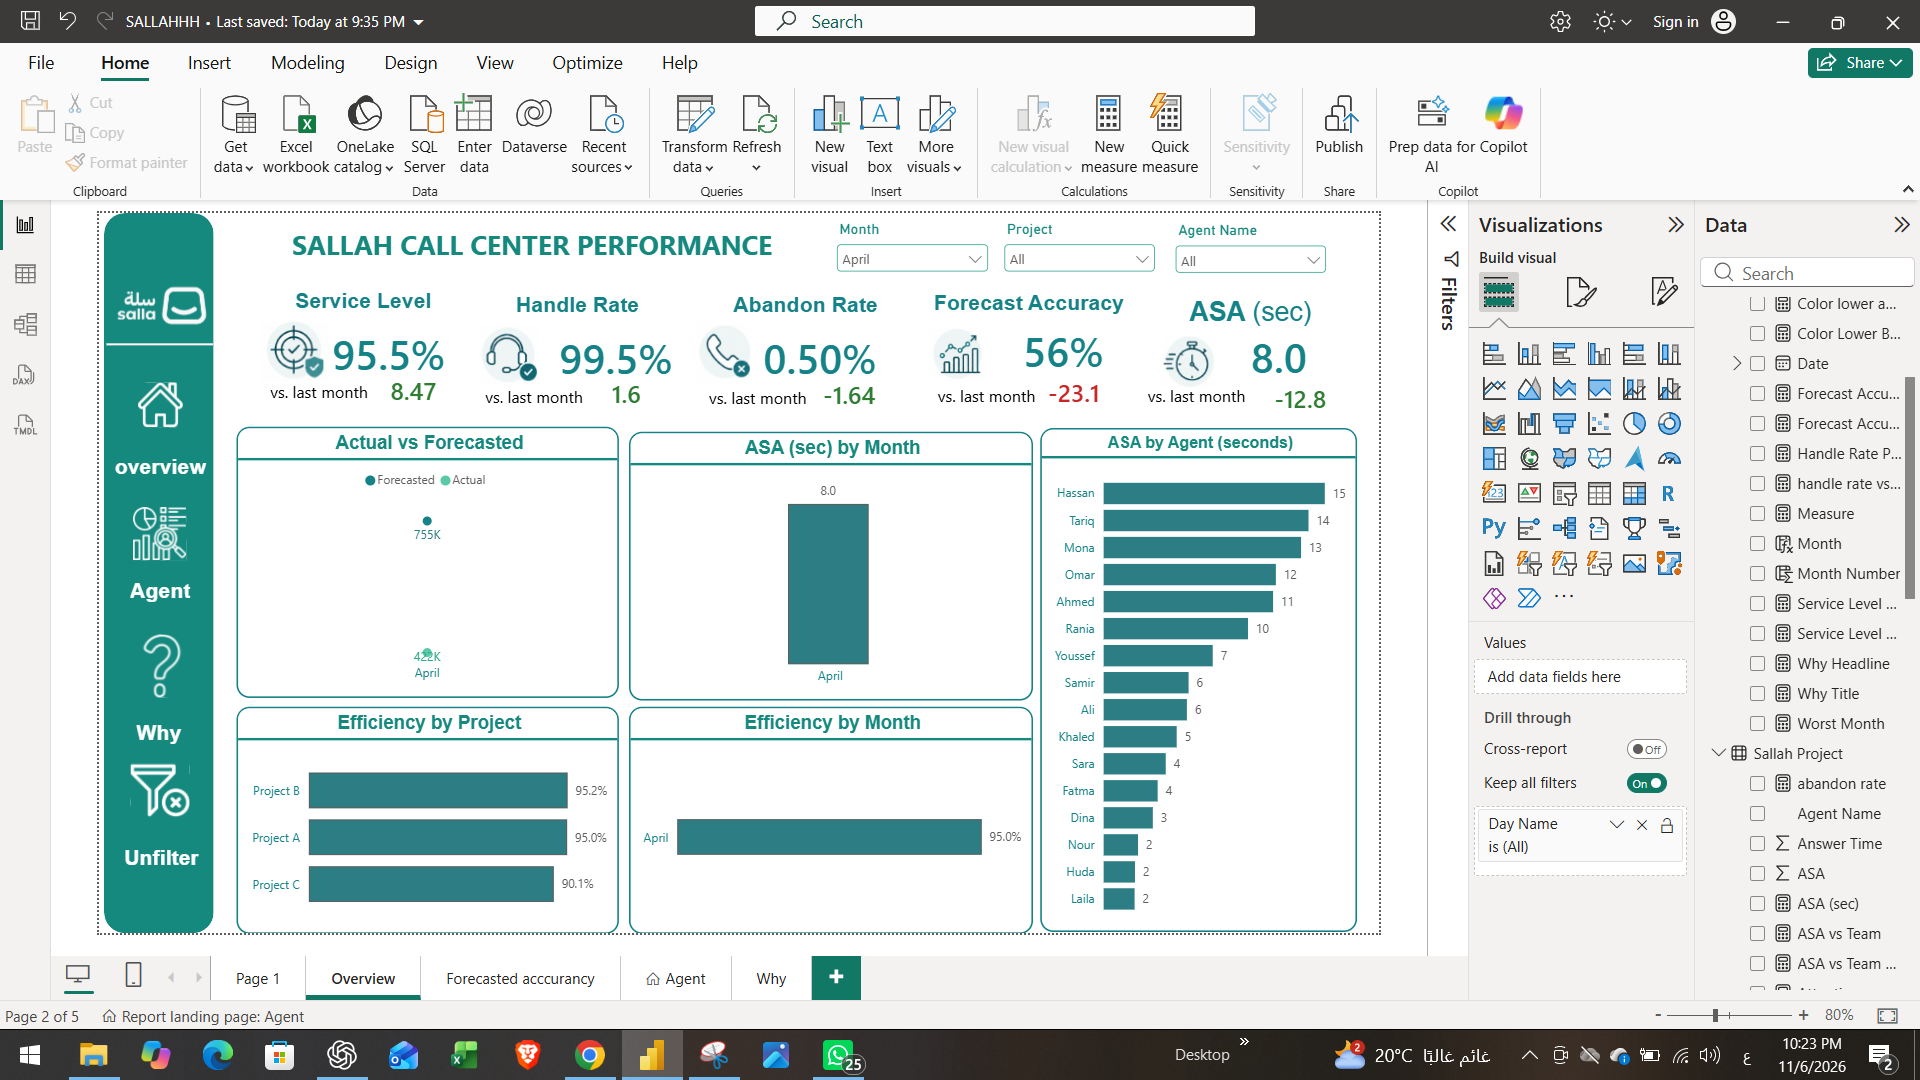

This screenshot's page, from the dashboard's own definition file:
{"tool":"powerbi","page":{"name":"Overview","canvas":[1280,720],"ordinal":1},"visuals":[{"type":"textbox","box":[103,8.2,621.4,52.9],"z":0,"group":"g2"},{"type":"shape","box":[4.8,0,109.8,720.2],"z":1000},{"type":"slicer","fields":{"Values":["Calendar.Month"]},"box":[728.1,2.2,171.3,71.2],"z":1000,"group":"g2"},{"type":"actionButton","box":[826.5,100.4,65.4,79.3],"z":1000,"group":"g1"},{"type":"slicer","fields":{"Values":["Sallah Project.Project"]},"box":[896,2.5,171.1,71],"z":2000,"group":"g2"},{"type":"textbox","box":[1071,78.2,160.5,45.3],"z":2000,"group":"g1"},{"type":"slicer","fields":{"Values":["Sallah Project.Agent Name"]},"box":[1067.2,3.6,171.1,58.4],"z":3000,"group":"g2"},{"type":"actionButton","box":[132.2,100.4,126.6,75.1],"z":3000,"group":"g1"},{"type":"barChart","title":"ASA by Agent (seconds)","fields":{"Category":["Sallah Project.Agent Name"],"Y":["Sallah Project.ASA (sec)"]},"box":[940.8,215.4,317.1,504.3],"z":3000},{"type":"cardVisual","fields":{"Data":["Sallah Project.Handle Rate %"]},"box":[420.9,85.8,192.5,112.5],"z":4000,"group":"g1"},{"type":"lineChart","title":"Actual vs Forecasted","fields":{"Category":["Calendar.Month"],"Y":["Sum(Sallah Project.Forecasted Calls)","Sum(Sallah Project.Calls Offered)"]},"box":[137.1,214.3,382.6,271.3],"z":4000},{"type":"group","id":"g1","title":"Group 1","box":[132.2,64.5,1144.2,150.2],"z":5000},{"type":"actionButton","box":[352,107.1,114.1,68.2],"z":5000,"group":"g1"},{"type":"textbox","box":[369.3,74.8,217,45.9],"z":6000,"group":"g1"},{"type":"barChart","title":"Efficiency by Project","fields":{"Category":["Sallah Project.Project"],"Y":["Sallah Project.efficiency"]},"box":[137.2,493.5,382.5,227.5],"z":6000},{"type":"textbox","box":[591.9,74.6,228.2,48.7],"z":7000,"group":"g1"},{"type":"barChart","title":"Efficiency by Month","fields":{"Category":["Calendar.Month"],"Y":["Sallah Project.efficiency"]},"box":[529.9,493.1,404.2,226.8],"z":7000},{"type":"textbox","box":[825.1,72.6,210.1,50.1],"z":8000,"group":"g1"},{"type":"columnChart","fields":{"Category":["Calendar.Month","Sallah Project.Day Name"],"Y":["Sallah Project.ASA (sec)"]},"box":[530.4,218.1,404.2,269],"z":8000},{"type":"textbox","box":[165.6,71.2,196.2,34.8],"z":9000,"group":"g1"},{"type":"actionButton","box":[34.8,146.1,52.9,91.8],"z":9000},{"type":"cardVisual","fields":{"Data":["Sallah Project.abandon rate"]},"box":[621,70.8,200,142.5],"z":10000,"group":"g1"},{"type":"actionButton","box":[27.8,417.4,90.4,71],"z":10000},{"type":"cardVisual","fields":{"Data":["Sallah Project.ASA (sec)"]},"box":[1107.3,75.4,145.5,131.7],"z":11000,"group":"g1"},{"type":"cardVisual","fields":{"Data":["Sallah Project.Service Level %"]},"box":[197.5,86.8,185.8,103.8],"z":12000,"group":"g1"},{"type":"actionButton","box":[30.6,289.4,65.4,61.2],"z":12000},{"type":"group","id":"g2","title":"Group 2","box":[103,2.2,1135.3,71.2],"z":13000},{"type":"cardVisual","fields":{"Data":["Sallah Project.Forecast Accuracy %"]},"box":[863.6,64.5,202.5,141.2],"z":13000,"group":"g1"},{"type":"textbox","box":[1043.6,165.9,124.3,40],"z":14000,"group":"g1"},{"type":"actionButton","box":[27.1,544.3,82.9,67.1],"z":14000},{"type":"actionButton","box":[589.1,99.6,71,80.7],"z":15000},{"type":"cardVisual","fields":{"Data":["Calendar.ASA vs LM"]},"box":[1146,153,130.4,61.7],"z":15000,"group":"g1"},{"type":"actionButton","box":[1040.7,119.1,96,61.2],"z":16000},{"type":"textbox","box":[604.4,167.8,115.5,43.1],"z":16000,"group":"g1"},{"type":"actionButton","box":[11.1,229.6,100.2,48.7],"z":17000},{"type":"actionButton","box":[11.1,353.4,100.2,48.7],"z":18000},{"type":"actionButton","box":[10,495.7,100,48.6],"z":19000},{"type":"actionButton","box":[12.9,621.4,100,47.1],"z":20000},{"type":"actionButton","box":[0.3,22.3,132.7,92.9],"z":21000},{"type":"textbox","box":[165.7,162.9,118.6,41.4],"z":23000},{"type":"textbox","box":[380.7,167.8,125.2,43.1],"z":24000},{"type":"cardVisual","fields":{"Data":["Calendar.Service Level vs LM"]},"box":[263,145,115.8,63.9],"z":25000},{"type":"cardVisual","fields":{"Data":["Calendar.Forecast Accuracy vs LM"]},"box":[919.7,146.4,130.3,63.9],"z":26000},{"type":"cardVisual","fields":{"Data":["Calendar.Abandon Rate vs LM"]},"box":[694.8,148.3,118.3,64],"z":27000},{"type":"cardVisual","fields":{"Data":["Calendar.handle rate vs LM"]},"box":[483.6,146.9,115.8,63.9],"z":28000},{"type":"textbox","box":[833.4,166.4,125.2,44.5],"z":29000},{"type":"shape","box":[7.4,104.2,106.7,55.2],"z":30000}]}

Visuals, with their boxes on the page's 1280x720 design canvas (x1, y1, x2, y2). These are canvas units, not pixel positions in the 1920x1080 screenshot, which may show the page scaled, cropped or inside an application window:
textbox: box=[103, 8, 724, 61]
shape: box=[5, 0, 115, 720]
slicer - Calendar.Month: box=[728, 2, 899, 73]
actionButton: box=[826, 100, 892, 180]
slicer - Sallah Project.Project: box=[896, 2, 1067, 74]
textbox: box=[1071, 78, 1232, 124]
slicer - Sallah Project.Agent Name: box=[1067, 4, 1238, 62]
actionButton: box=[132, 100, 259, 176]
"ASA by Agent (seconds)" barChart: box=[941, 215, 1258, 720]
cardVisual - Sallah Project.Handle Rate %: box=[421, 86, 613, 198]
"Actual vs Forecasted" lineChart: box=[137, 214, 520, 486]
"Group 1" group: box=[132, 64, 1276, 215]
actionButton: box=[352, 107, 466, 175]
textbox: box=[369, 75, 586, 121]
"Efficiency by Project" barChart: box=[137, 494, 520, 721]
textbox: box=[592, 75, 820, 123]
"Efficiency by Month" barChart: box=[530, 493, 934, 720]
textbox: box=[825, 73, 1035, 123]
columnChart - Calendar.Month x Sallah Project.Day Name: box=[530, 218, 935, 487]
textbox: box=[166, 71, 362, 106]
actionButton: box=[35, 146, 88, 238]
cardVisual - Sallah Project.abandon rate: box=[621, 71, 821, 213]
actionButton: box=[28, 417, 118, 488]
cardVisual - Sallah Project.ASA (sec): box=[1107, 75, 1253, 207]
cardVisual - Sallah Project.Service Level %: box=[198, 87, 383, 191]
actionButton: box=[31, 289, 96, 351]
"Group 2" group: box=[103, 2, 1238, 73]
cardVisual - Sallah Project.Forecast Accuracy %: box=[864, 64, 1066, 206]
textbox: box=[1044, 166, 1168, 206]
actionButton: box=[27, 544, 110, 611]
actionButton: box=[589, 100, 660, 180]
cardVisual - Calendar.ASA vs LM: box=[1146, 153, 1276, 215]
actionButton: box=[1041, 119, 1137, 180]
textbox: box=[604, 168, 720, 211]
actionButton: box=[11, 230, 111, 278]
actionButton: box=[11, 353, 111, 402]
actionButton: box=[10, 496, 110, 544]
actionButton: box=[13, 621, 113, 668]
actionButton: box=[0, 22, 133, 115]
textbox: box=[166, 163, 284, 204]
textbox: box=[381, 168, 506, 211]
cardVisual - Calendar.Service Level vs LM: box=[263, 145, 379, 209]
cardVisual - Calendar.Forecast Accuracy vs LM: box=[920, 146, 1050, 210]
cardVisual - Calendar.Abandon Rate vs LM: box=[695, 148, 813, 212]
cardVisual - Calendar.handle rate vs LM: box=[484, 147, 599, 211]
textbox: box=[833, 166, 959, 211]
shape: box=[7, 104, 114, 159]
